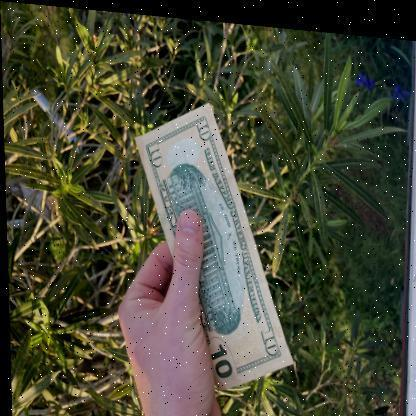ten-back: (134, 98, 292, 387), (267, 53, 390, 244)
